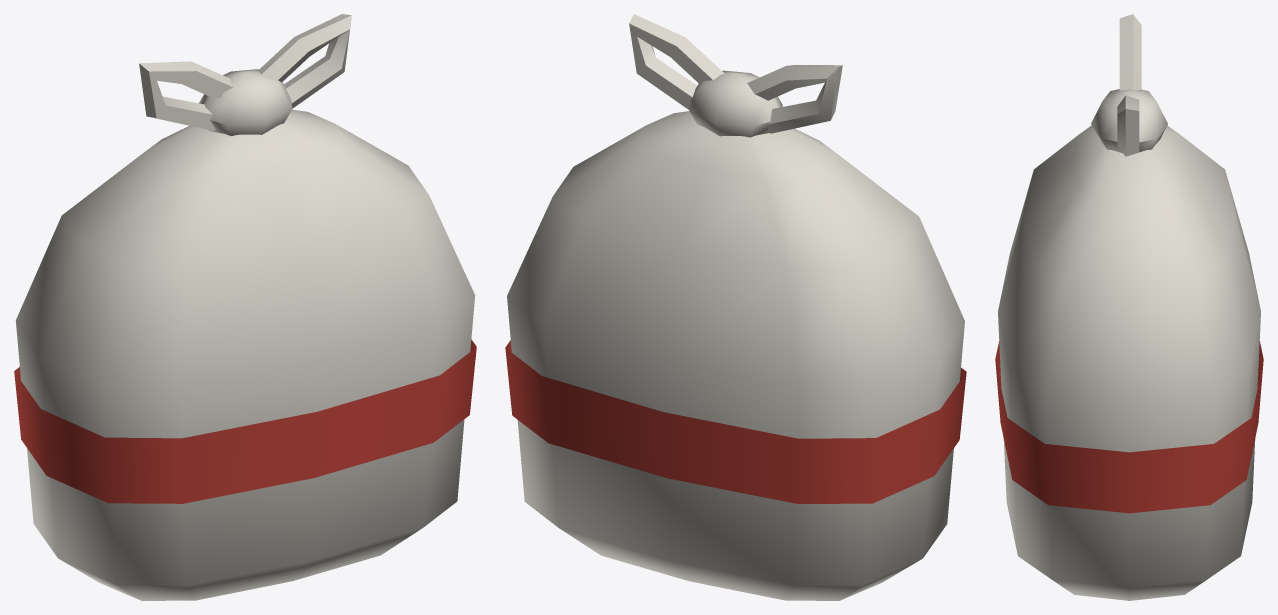
The model's file is takeaway_bag.glb.
The picture shows the model from 3 angles, left to right: view 1: azimuth 30°, elevation 25°; view 2: azimuth 150°, elevation 25°; view 3: azimuth 270°, elevation 25°; orthographic projection. The views are drawn at different scales.
Parts seen in each view (by area): view 1: takeaway_bag; view 2: takeaway_bag; view 3: takeaway_bag.
Part boxes in pixels (x1,y1,x2,y2): takeaway_bag: (14, 14, 476, 600); takeaway_bag: (505, 14, 966, 600); takeaway_bag: (995, 14, 1263, 600).
Bounding box in the file's own units: 0.251 × 0.2973 × 0.153.
